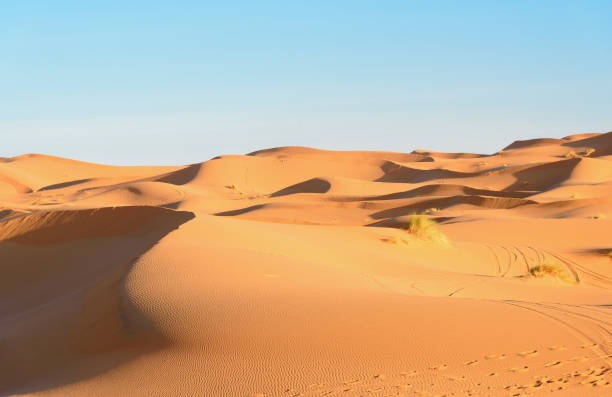animal_foot_print: (485, 353, 507, 360), (517, 349, 538, 356), (509, 366, 528, 372), (544, 360, 562, 366), (465, 360, 478, 365)
